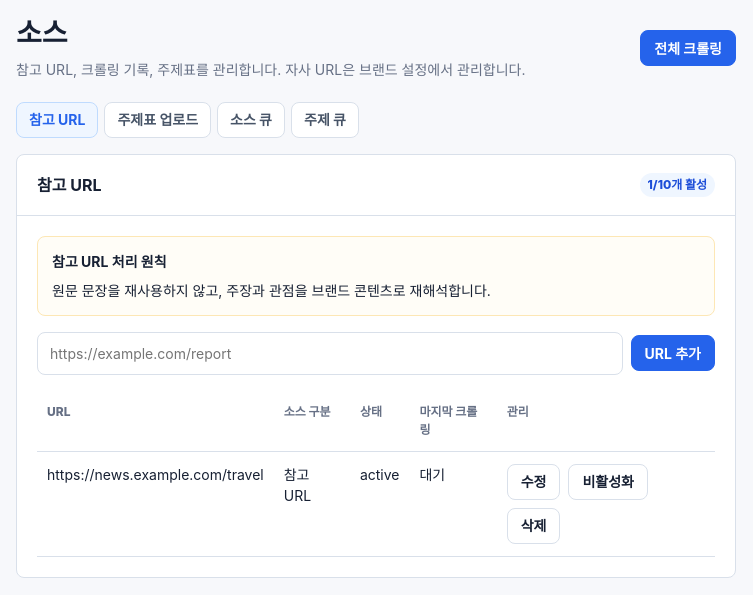
it: SourcesPage › renders source management tabs and topic template download
Expected: the heading "소스" is shown, [16, 16, 68, 50]
Expected: the tab "참고 URL" is shown, [16, 102, 98, 138]
Click the tab "주제표 업로드" at (158, 120), box [104, 102, 211, 138]
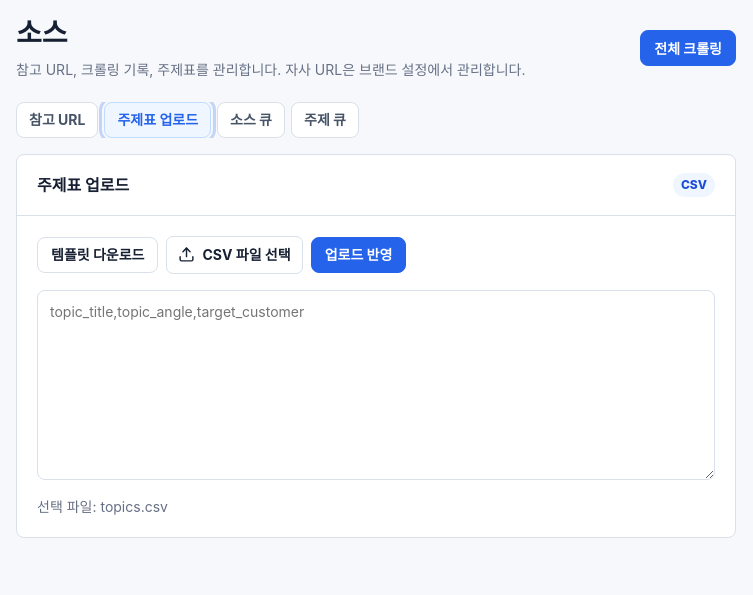
Expected: the text box named "주제표 CSV 내용" is shown, [37, 290, 715, 480]
Expected: the text "선택 파일: topics.csv" is shown, [37, 498, 168, 515]
